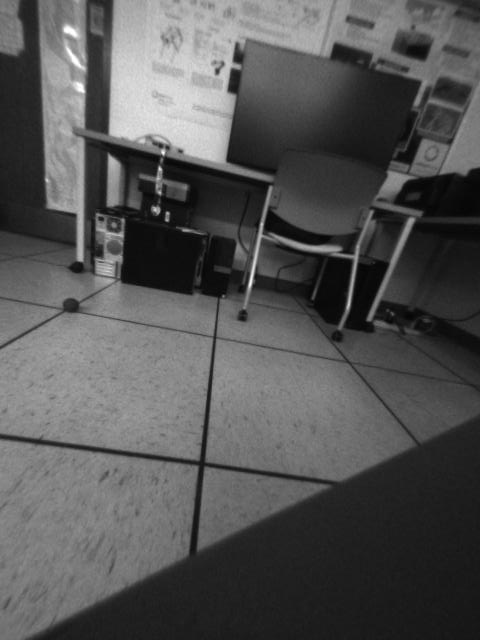dogtoy: (56, 291, 89, 321)
